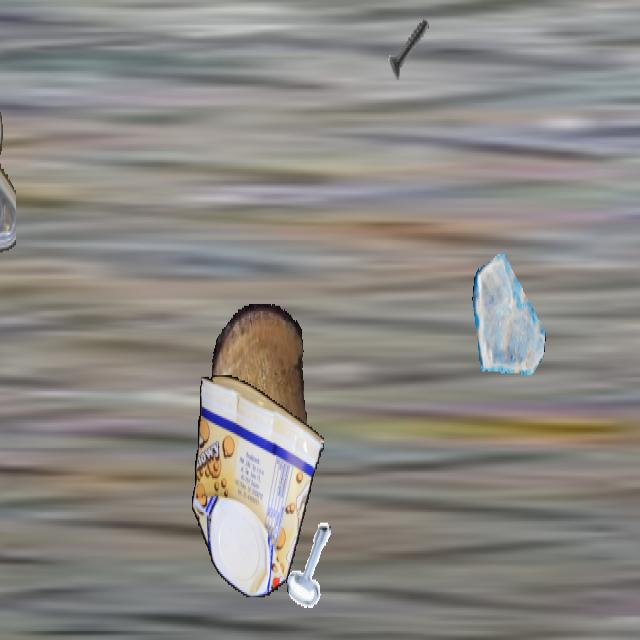glass: (472, 247, 546, 379)
metal: (383, 2, 435, 94), (286, 521, 338, 613)
plastic: (192, 375, 324, 596), (0, 2, 15, 300)
wood: (212, 304, 306, 489)
